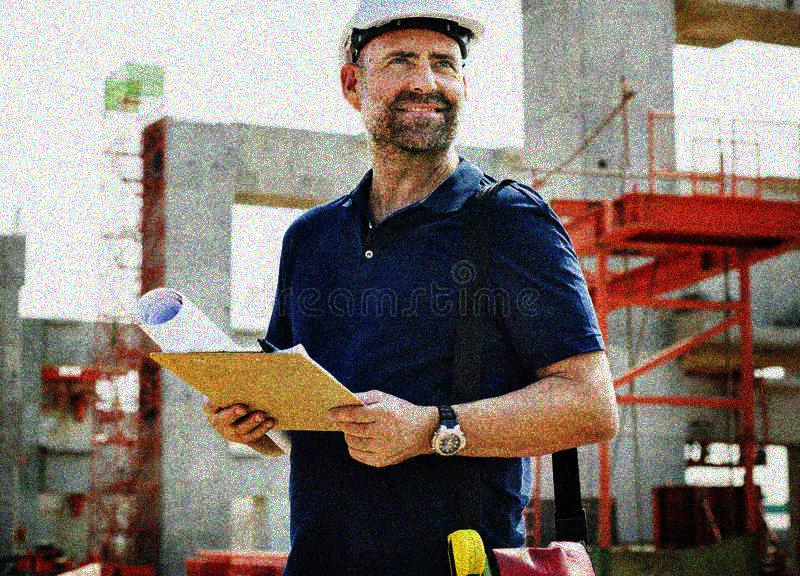helmet: (340, 1, 484, 161)
